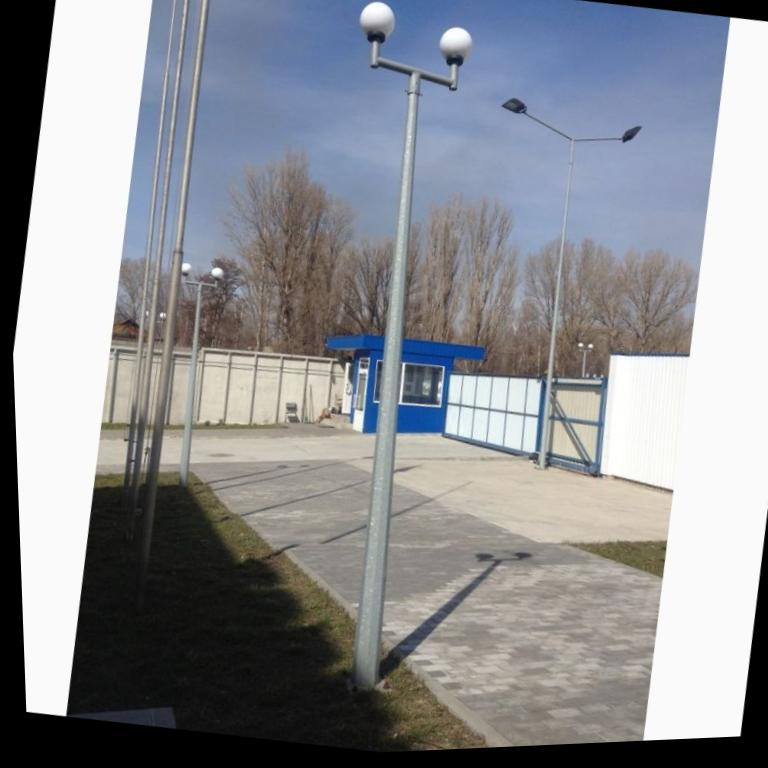Animal: (243, 0, 537, 726), (452, 77, 683, 496), (143, 253, 267, 502)
